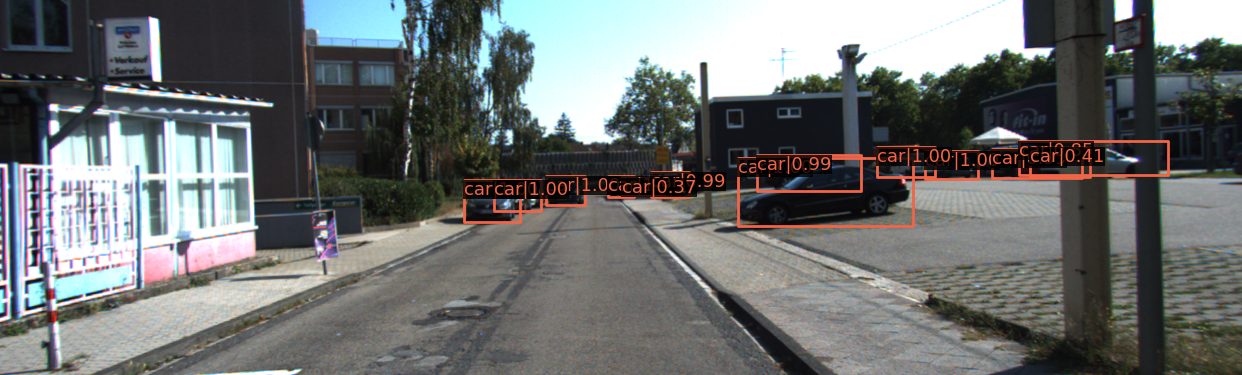car: (732, 160, 923, 228), (1040, 147, 1152, 181), (764, 158, 863, 196), (1011, 148, 1119, 180), (988, 151, 1096, 183), (464, 182, 517, 224), (889, 151, 938, 180), (923, 155, 977, 181), (547, 178, 586, 208), (652, 173, 687, 197), (1225, 136, 1242, 184)
